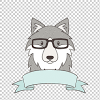Lobo: (17, 16, 77, 74)
